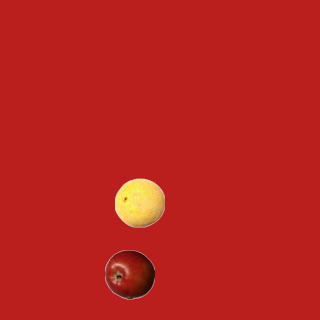Apple Braeburn: (104, 249, 154, 299)
Cantaloupe 1: (114, 177, 164, 227)
